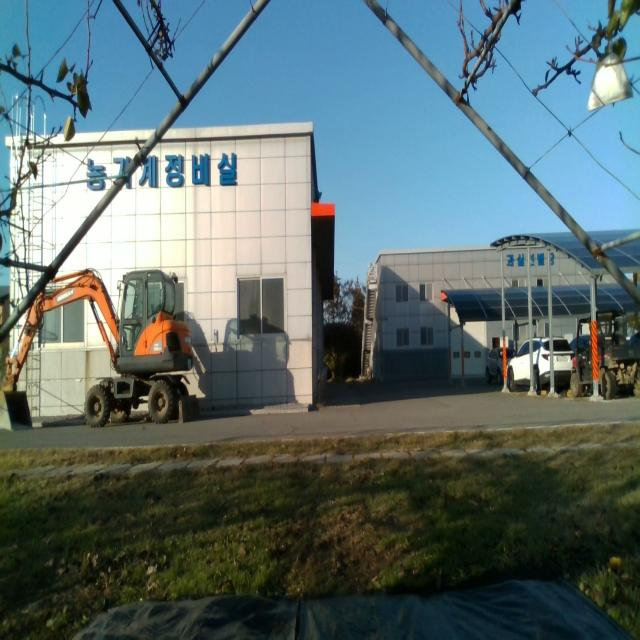pearbags: (588, 50, 632, 112)
